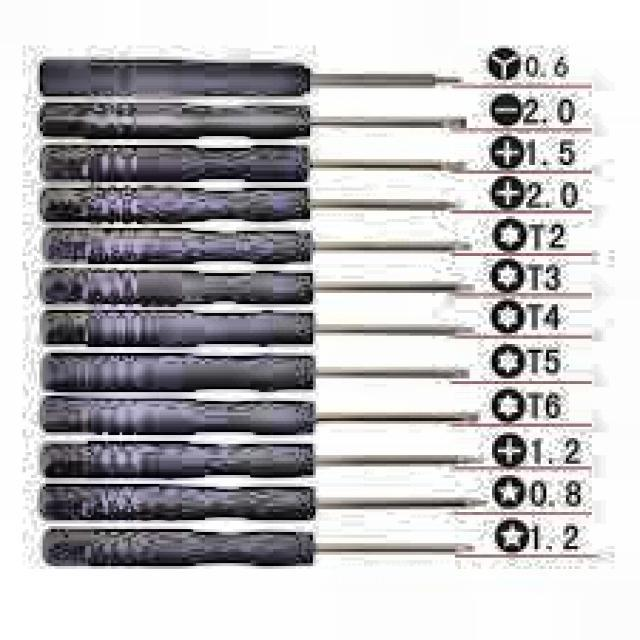screwdriver: (42, 398, 476, 438), (40, 59, 460, 96), (41, 354, 472, 390), (40, 104, 463, 140), (41, 147, 461, 183), (40, 486, 483, 520), (40, 272, 470, 307), (41, 443, 482, 477), (41, 312, 472, 346), (42, 188, 455, 221), (44, 230, 465, 262)
